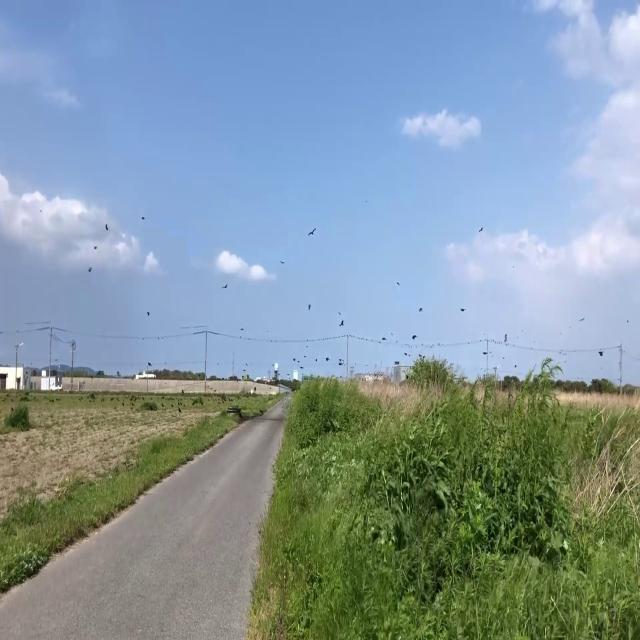bird: (478, 222, 484, 236), (598, 345, 604, 358), (460, 302, 465, 315), (178, 394, 182, 410), (339, 313, 344, 325), (419, 302, 423, 313)
